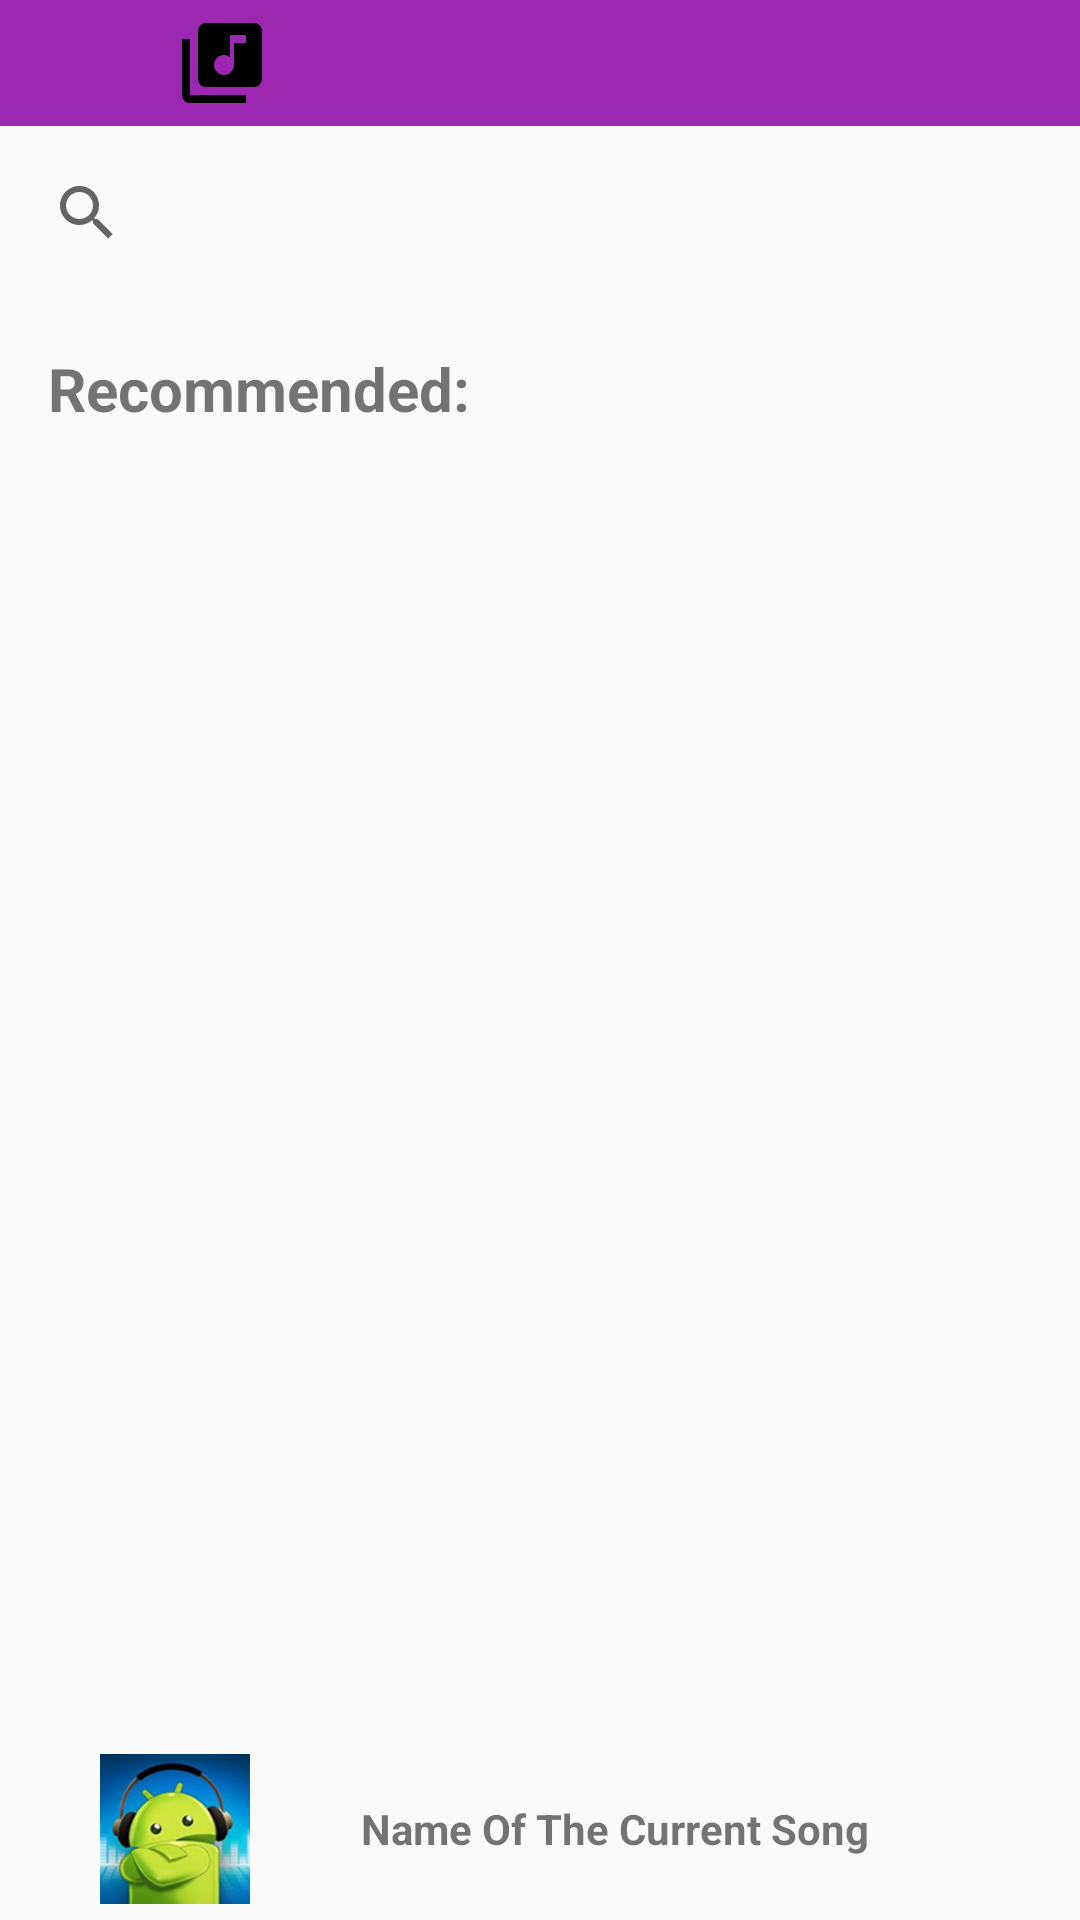

Icon bounding boxes for this 1080px x 1920px phone screenshot, format (x1, y1, x2, y2):
library music: (182, 23, 262, 103)
